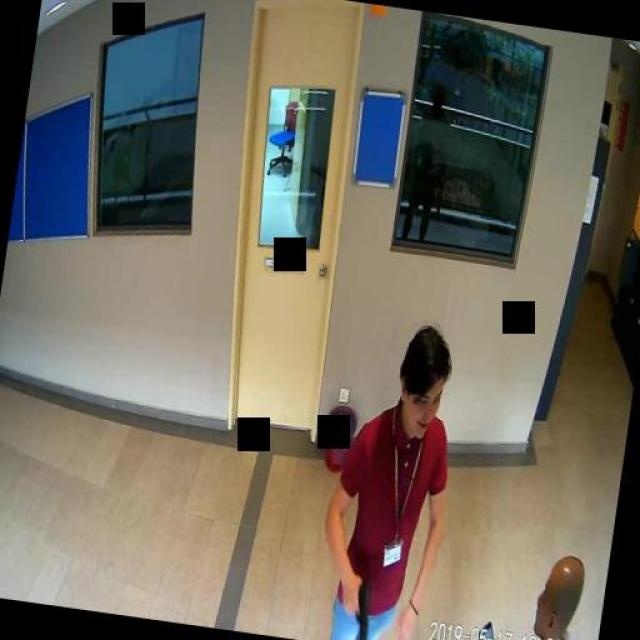gun: (335, 575, 374, 640)
